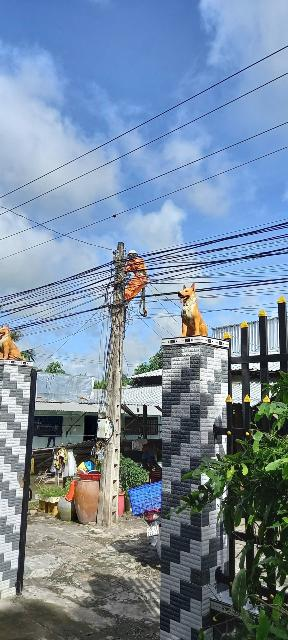harness: (133, 270, 150, 276)
helmet: (125, 248, 141, 257)
